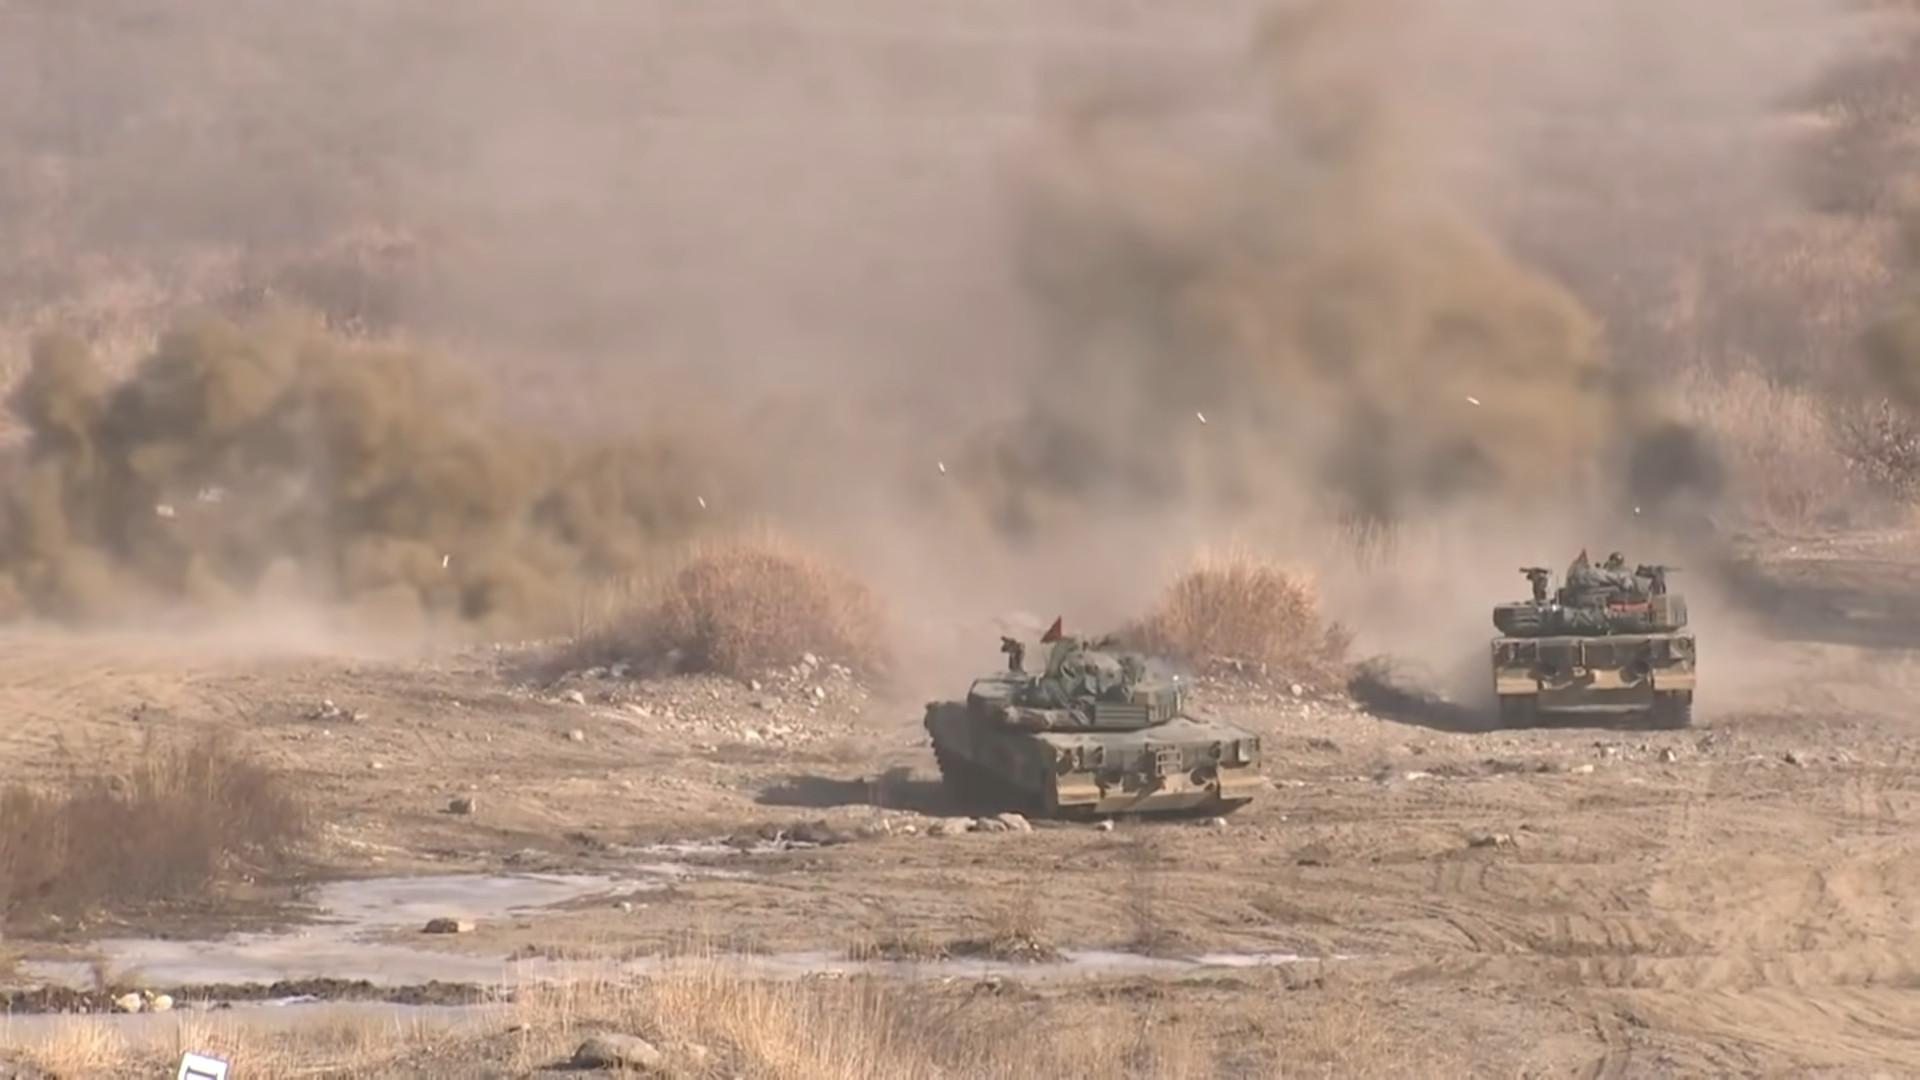tank: (924, 637, 1267, 822), (1491, 550, 1693, 728)
